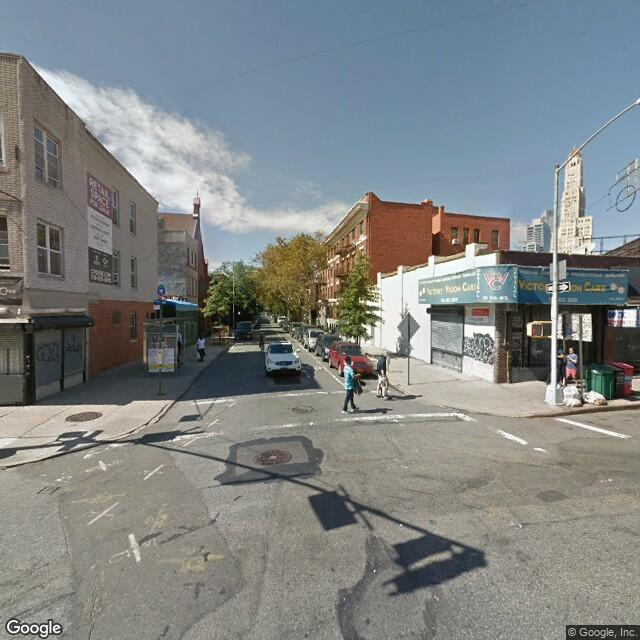litter: (561, 386, 611, 406)
